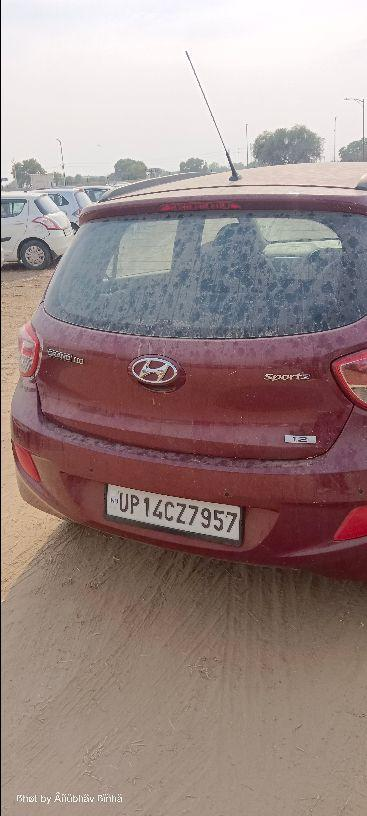license_plate: (103, 482, 244, 546)
